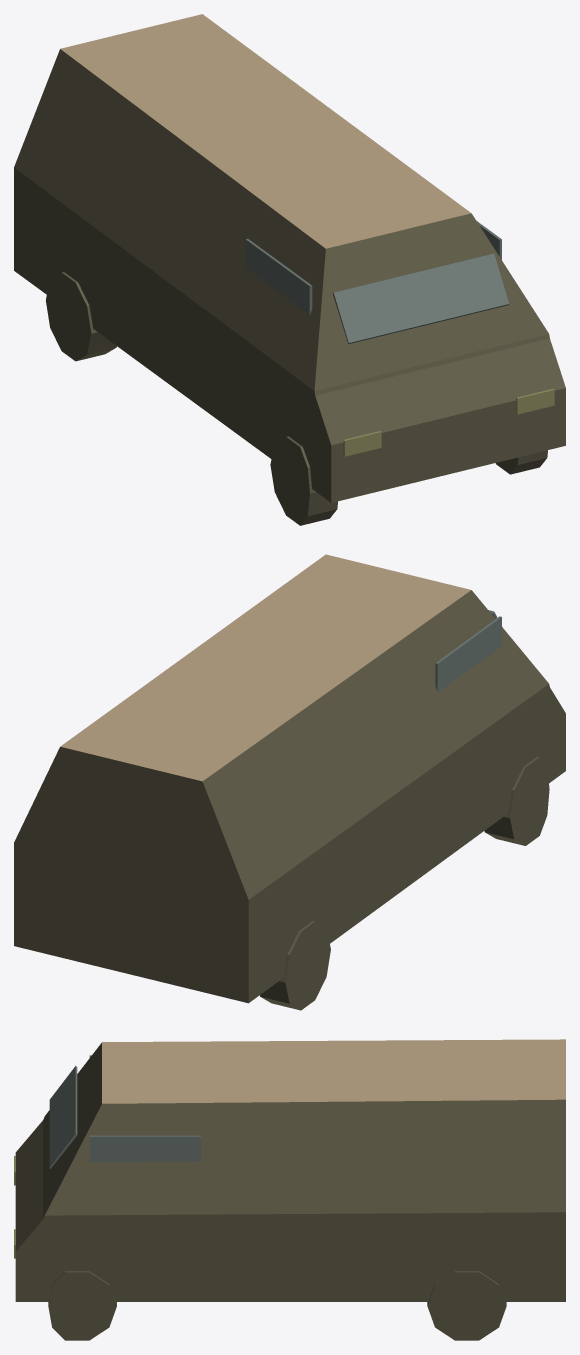
Rendered from SM_CocheCivil_Furgoneta_v3_LOD0.fbx.
3 views of the same model, one above another, from view 1: azimuth 30°, elevation 25°; view 2: azimuth 150°, elevation 25°; view 3: azimuth 270°, elevation 25° (orthographic). The views are drawn at different scales.
Parts seen in each view (by area): view 1: SM_coche_civil_v13_LOD0; view 2: SM_coche_civil_v13_LOD0; view 3: SM_coche_civil_v13_LOD0.
Part boxes in pixels (x1,y1,x2,y2): SM_coche_civil_v13_LOD0: (14,14,565,525); SM_coche_civil_v13_LOD0: (14,554,565,1010); SM_coche_civil_v13_LOD0: (14,1039,565,1340).
Bounding box in the file's own units: 1.94 × 1.96 × 4.46.
